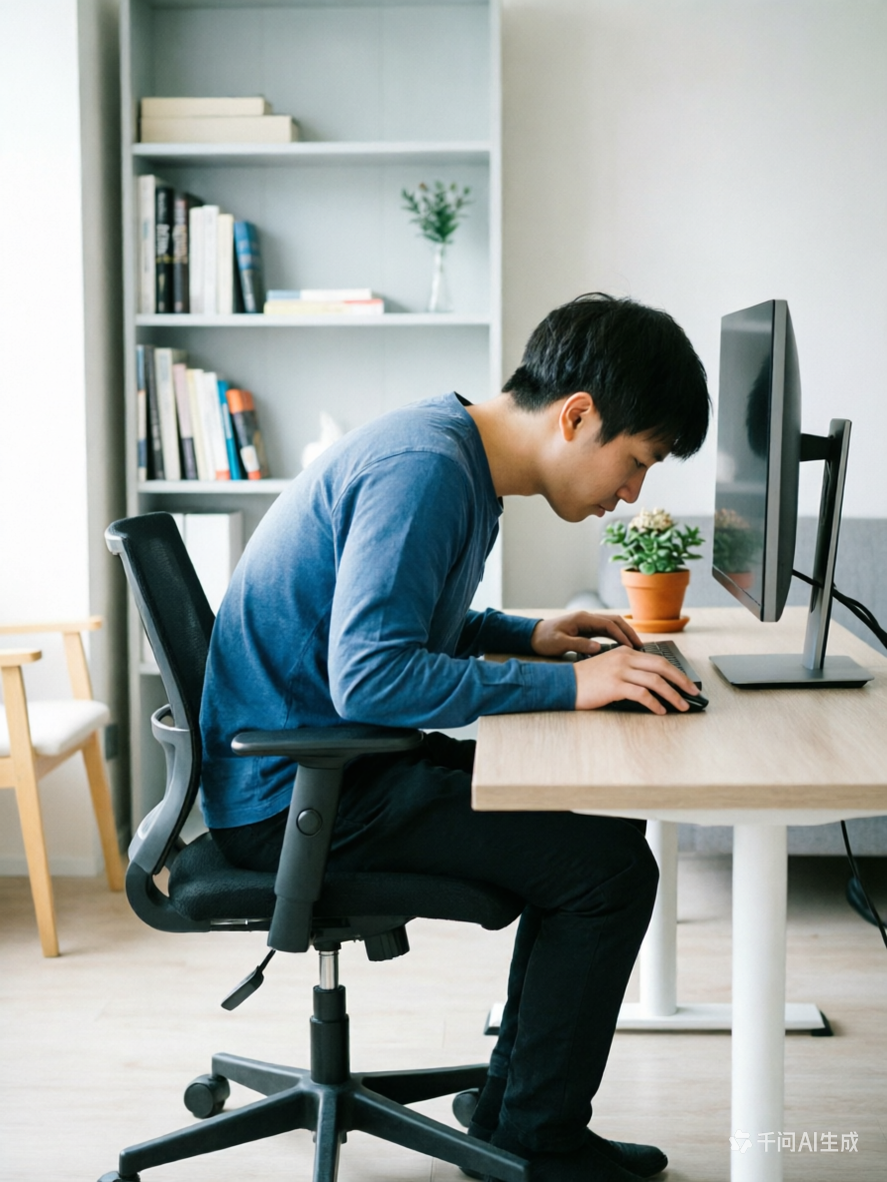sitting_bad: (188, 288, 710, 1162)
